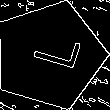L_W: (20, 33, 79, 78)
